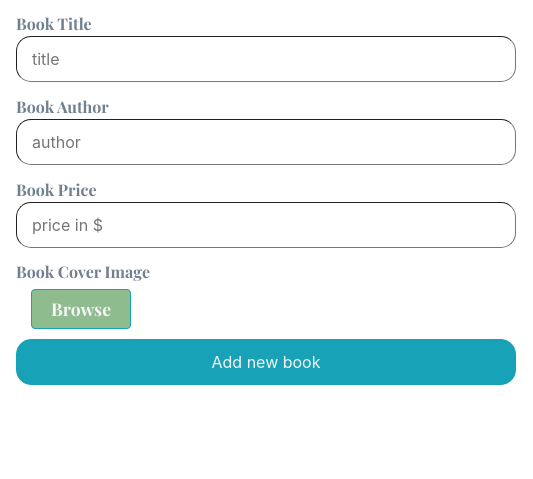
Test: Add book form component tests › Add book form validation test
Expected: the field with test id "add-book-input-title" is shown, [16, 36, 516, 82]
Click the button with test id "add-book-submit-btn". click: click(266, 362)
box: [16, 339, 516, 385]
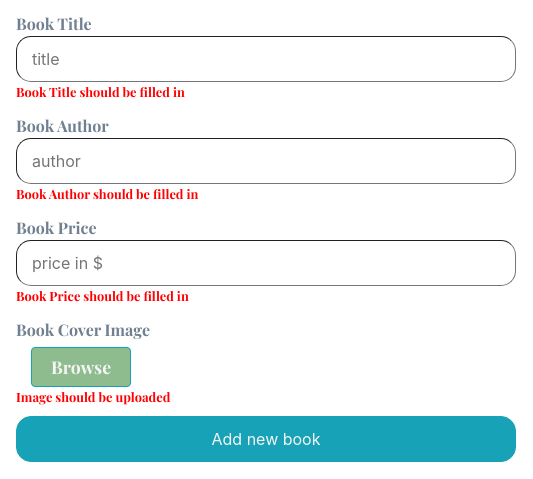
Result: the text "Book Title should be filled in" is shown at [16, 83, 185, 100]
Result: the text "Book Author should be filled in" is shown at [16, 185, 198, 202]
Result: the text "Book Price should be filled in" is shown at [16, 287, 189, 304]
